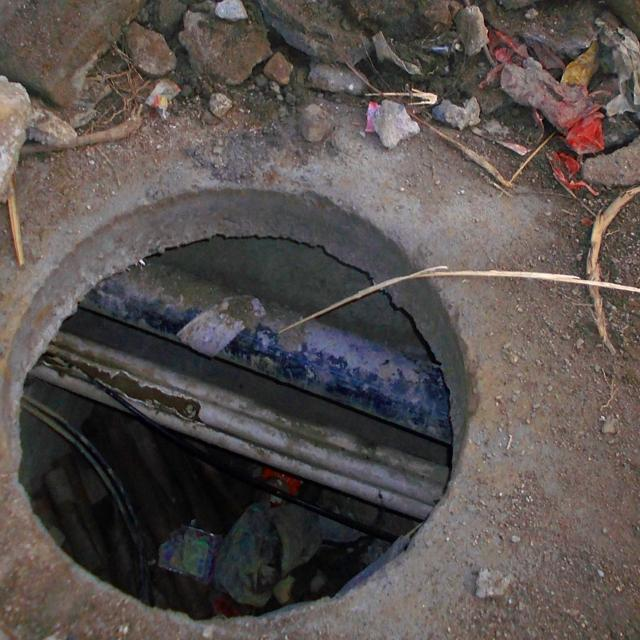lose: (0, 183, 482, 633)
